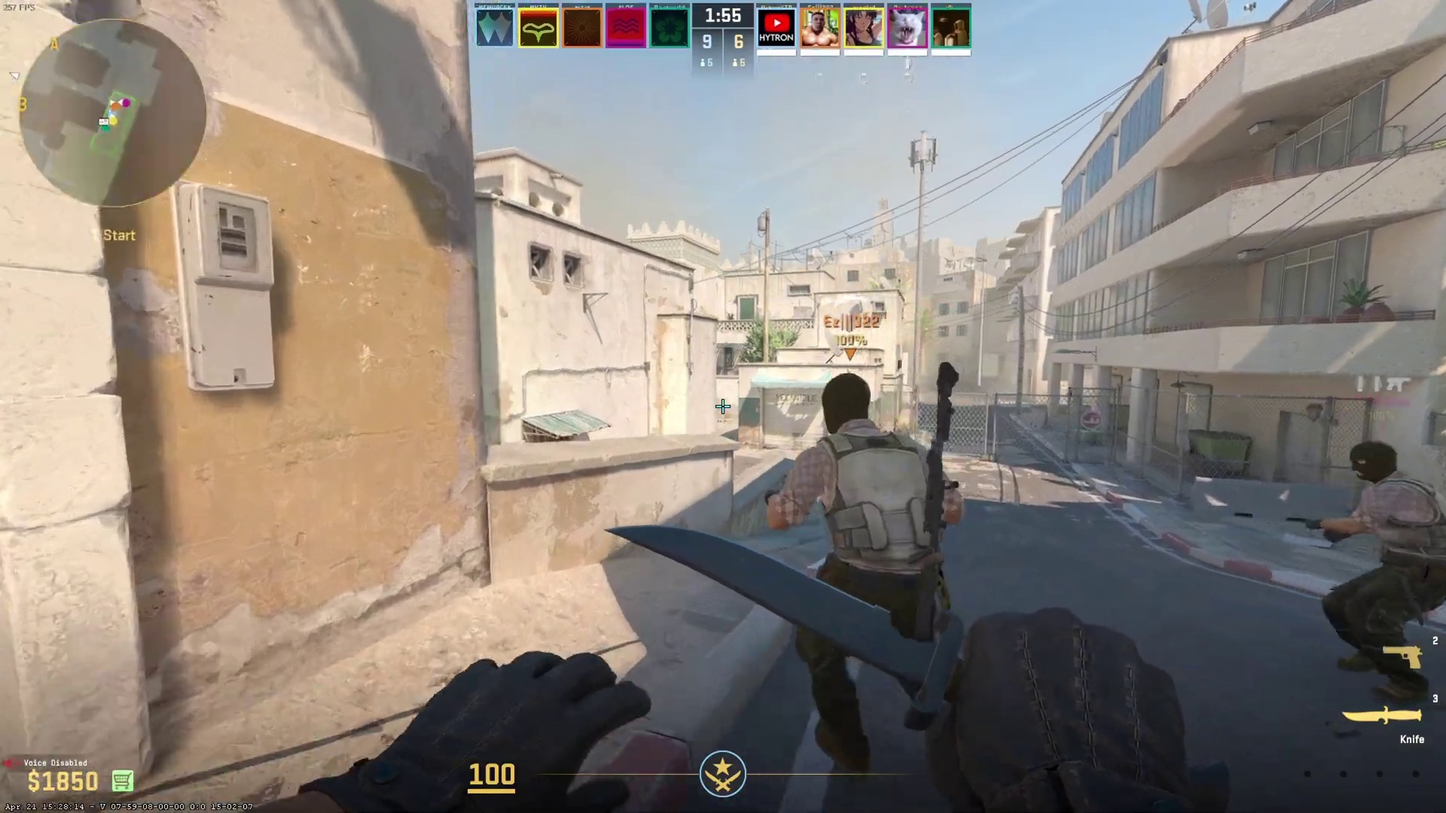Terrorist: (788, 375, 945, 629), (1331, 441, 1446, 701)
